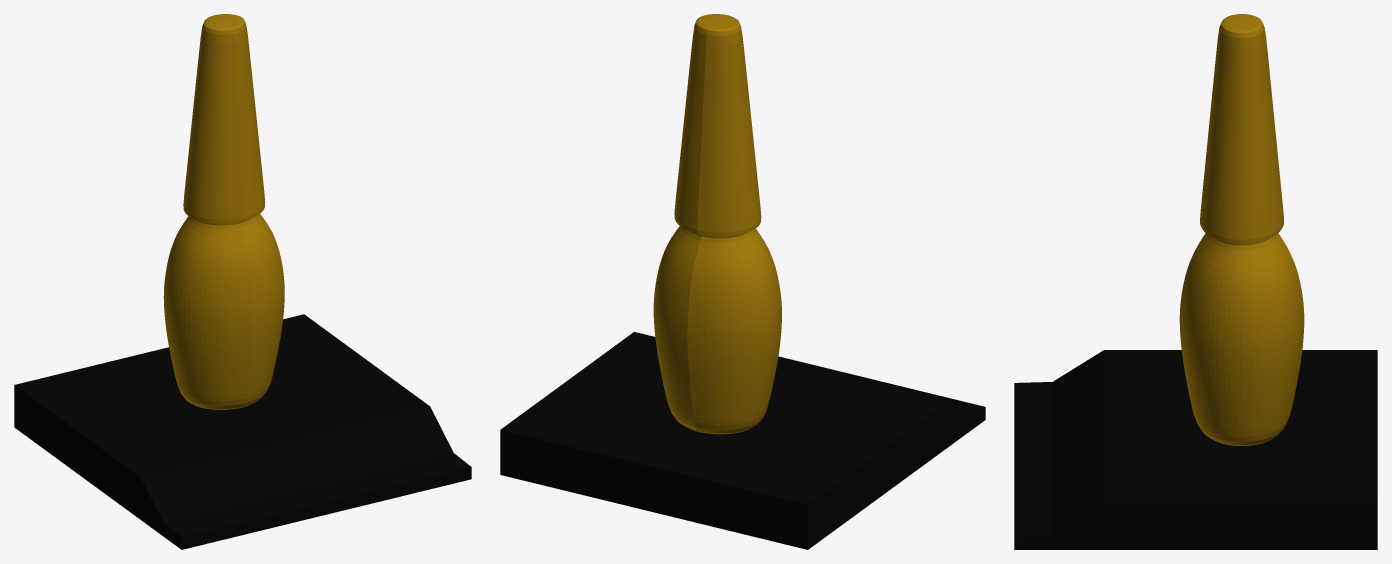
The picture shows the model from 3 angles, left to right: view 1: azimuth 30°, elevation 25°; view 2: azimuth 150°, elevation 25°; view 3: azimuth 270°, elevation 25°; orthographic projection. The views are drawn at different scales.
Visible parts, largest first — view 1: base.012, Plane.011; view 2: base.012, Plane.011; view 3: base.012, Plane.011.
Part boxes in pixels (<box>): base.012: <box>14,314,471,549</box>; Plane.011: <box>163,14,284,409</box>; base.012: <box>500,332,985,549</box>; Plane.011: <box>653,14,781,434</box>; base.012: <box>1014,350,1377,549</box>; Plane.011: <box>1179,14,1304,445</box>.
Bounding box in the file's own units: 79.88 × 110 × 79.88.
